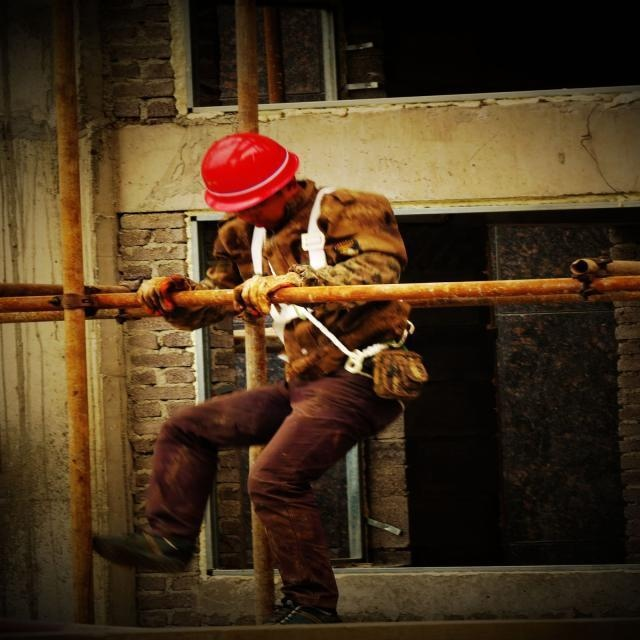Arnes_seguridad: (240, 181, 382, 325)
